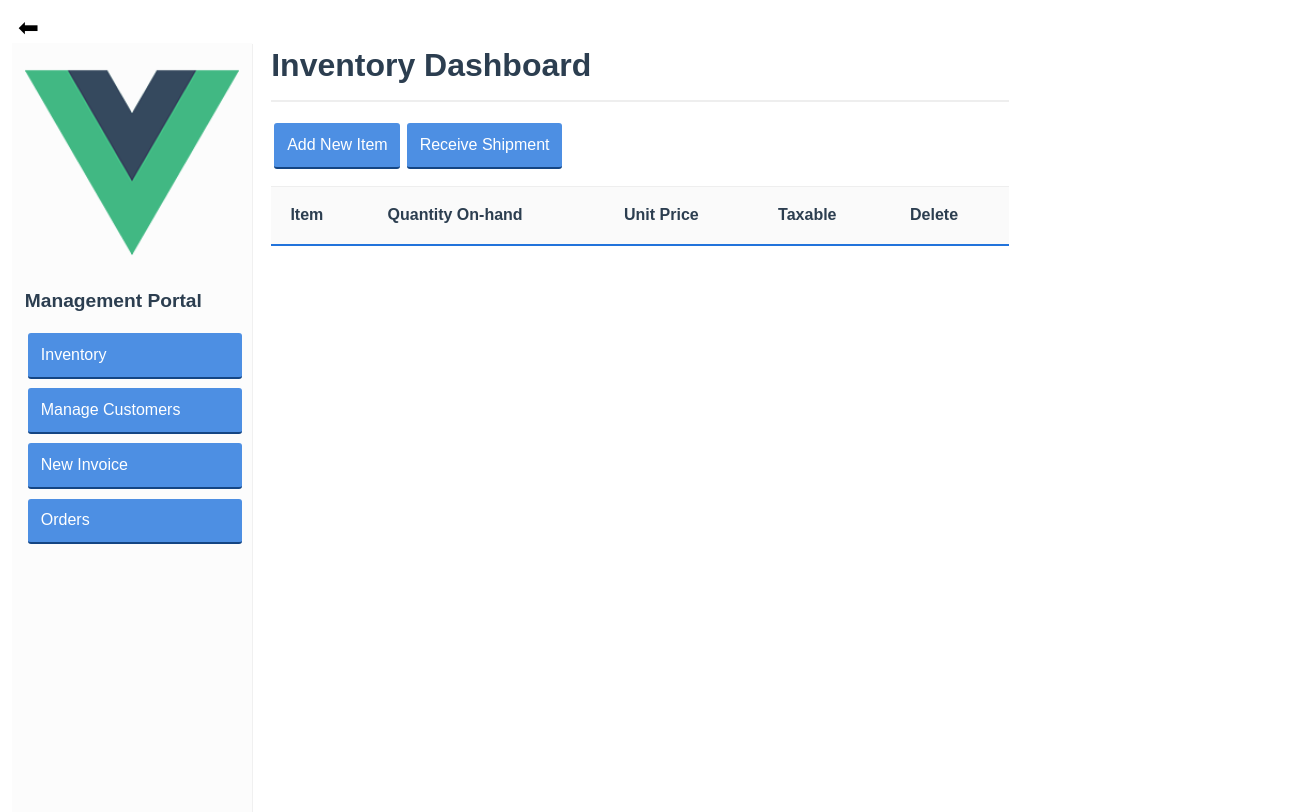
SideMenu › it visits the customers page via button
Click the button with id "menuCustomers". click: (132, 411)
box: [25,383,239,438]
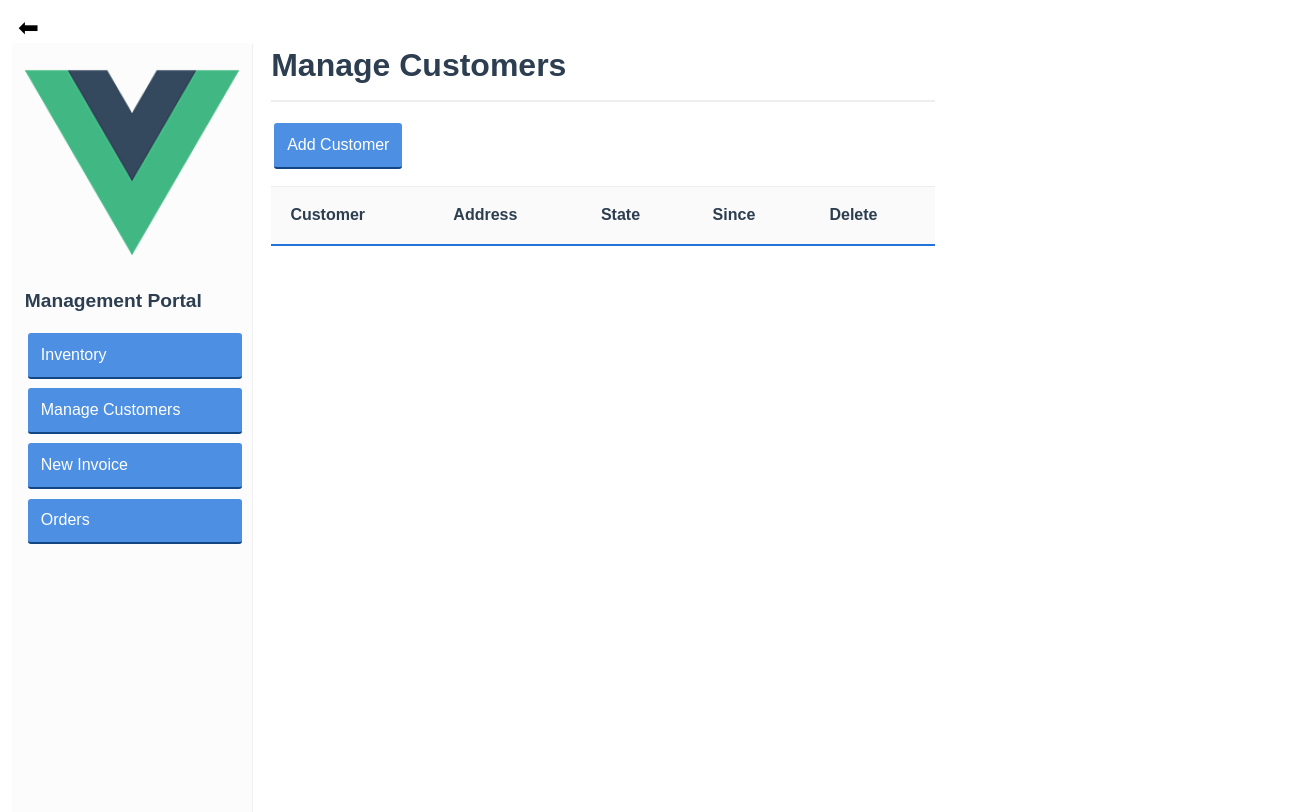
Check: the heading "Manage Customers" is shown, box [271,47,566,83]
